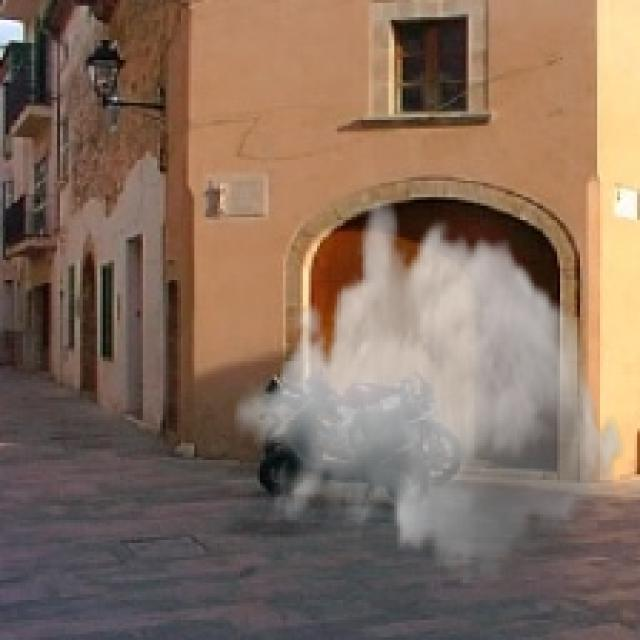Smoke: (231, 192, 626, 594)
